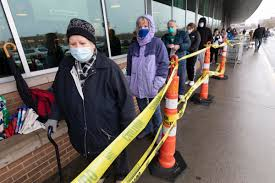mask: (61, 13, 102, 69), (127, 10, 157, 43), (165, 16, 179, 36), (196, 11, 210, 30), (182, 18, 196, 35)
